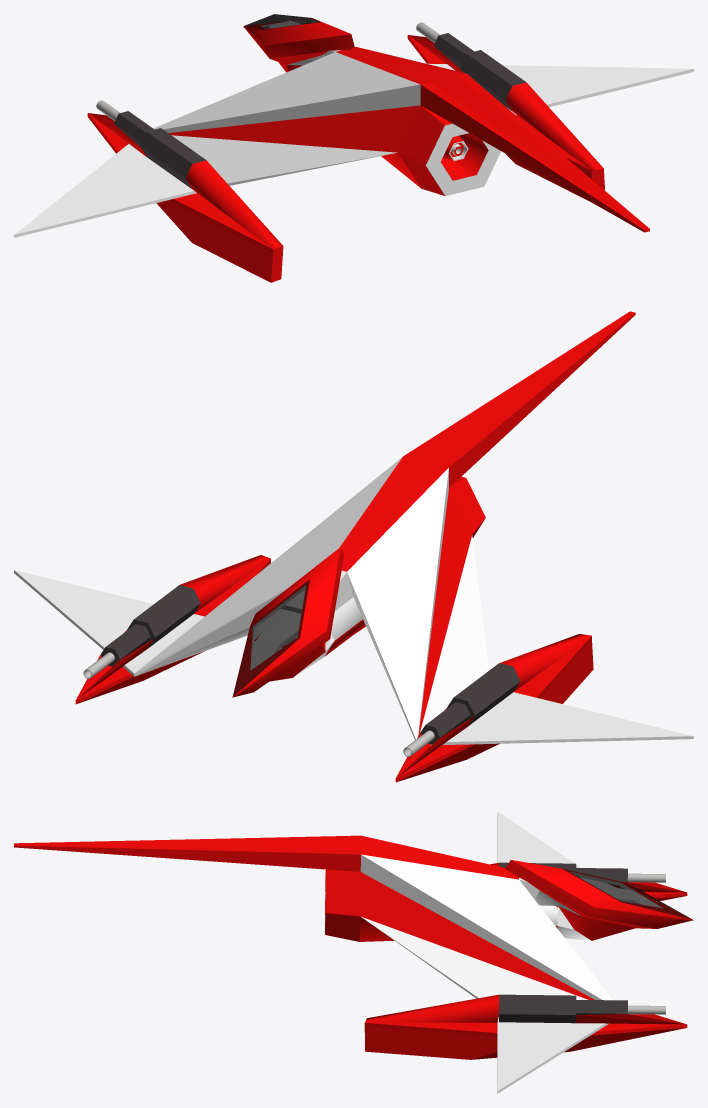
Rendered from ship.obj.
The picture shows the model from 3 angles, top to bottom: view 1: azimuth 30°, elevation 25°; view 2: azimuth 150°, elevation 25°; view 3: azimuth 270°, elevation 25°; orthographic projection. The views are drawn at different scales.
Visible parts, largest first — view 1: Mesh5 Group1 Model, Mesh2 Group3 Group1 Model, Mesh1 Group2 Group1 Model, Mesh3 Group4 Group1 Model, Mesh11 Group1 Model, Mesh8 Group1 Model, Mesh4 Group5 Group1 Model; view 2: Mesh5 Group1 Model, Mesh2 Group3 Group1 Model, Mesh1 Group2 Group1 Model, Mesh3 Group4 Group1 Model, Mesh4 Group5 Group1 Model, Mesh11 Group1 Model, Mesh8 Group1 Model; view 3: Mesh5 Group1 Model, Mesh4 Group5 Group1 Model, Mesh3 Group4 Group1 Model, Mesh11 Group1 Model, Mesh1 Group2 Group1 Model, Mesh9 Group1 Model.
Boxes of the visible parts, bbox=[...] form: Mesh5 Group1 Model: bbox=[14, 14, 693, 237]; Mesh2 Group3 Group1 Model: bbox=[87, 113, 283, 282]; Mesh1 Group2 Group1 Model: bbox=[96, 100, 206, 189]; Mesh3 Group4 Group1 Model: bbox=[416, 22, 525, 111]; Mesh11 Group1 Model: bbox=[505, 82, 603, 170]; Mesh8 Group1 Model: bbox=[185, 160, 282, 249]; Mesh4 Group5 Group1 Model: bbox=[407, 35, 604, 201]; Mesh5 Group1 Model: bbox=[14, 311, 693, 745]; Mesh2 Group3 Group1 Model: bbox=[395, 636, 593, 782]; Mesh1 Group2 Group1 Model: bbox=[403, 663, 520, 756]; Mesh3 Group4 Group1 Model: bbox=[83, 585, 200, 678]; Mesh4 Group5 Group1 Model: bbox=[75, 559, 270, 704]; Mesh11 Group1 Model: bbox=[180, 555, 270, 613]; Mesh8 Group1 Model: bbox=[500, 634, 591, 691]; Mesh5 Group1 Model: bbox=[14, 811, 693, 1093]; Mesh4 Group5 Group1 Model: bbox=[364, 1022, 687, 1059]; Mesh3 Group4 Group1 Model: bbox=[499, 994, 665, 1023]; Mesh11 Group1 Model: bbox=[365, 994, 499, 1022]; Mesh1 Group2 Group1 Model: bbox=[499, 862, 665, 882]; Mesh9 Group1 Model: bbox=[576, 1014, 684, 1024].
Bounding box in the file's own units: 58.85 × 13.82 × 60.31.
